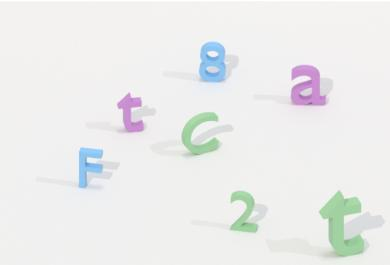2: (227, 189, 260, 236)
8: (196, 38, 230, 86)
C: (177, 109, 226, 157)
F: (75, 144, 107, 193)
a: (288, 62, 332, 111)
t: (315, 186, 369, 259), (113, 90, 149, 136)
